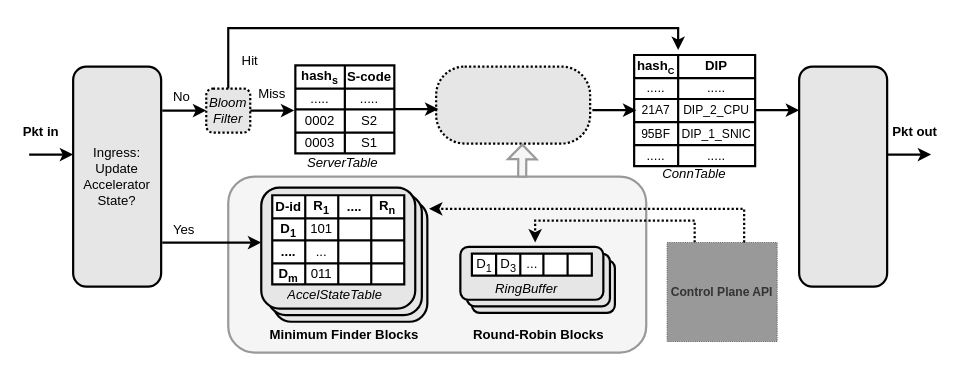
The diagram is 961 pixels wide and 372 high, and some of its shapes have lost their labels. The shapes that lost their labels are listed below. From the top down, each one's box as (x1, y1, x2, y2) in pixels, then its label:
(435, 65, 591, 144): Select the final destination based on the active policy
(798, 65, 888, 287): Egress: Map Packet to an output port
